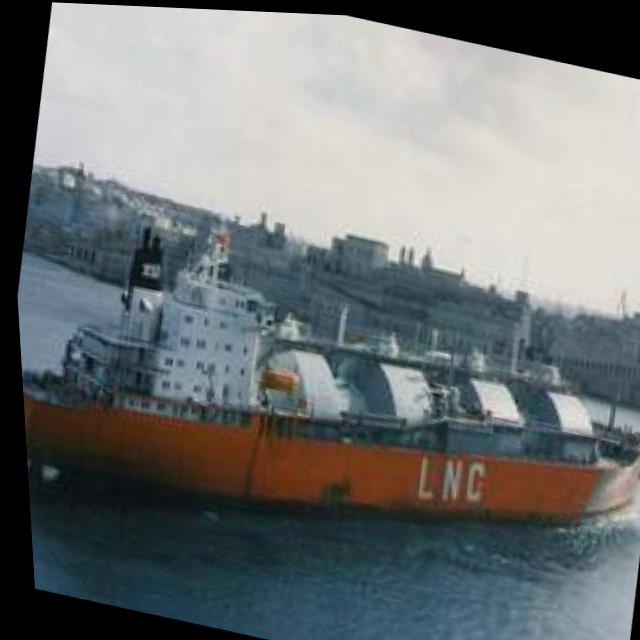ship2: (17, 220, 640, 526)
